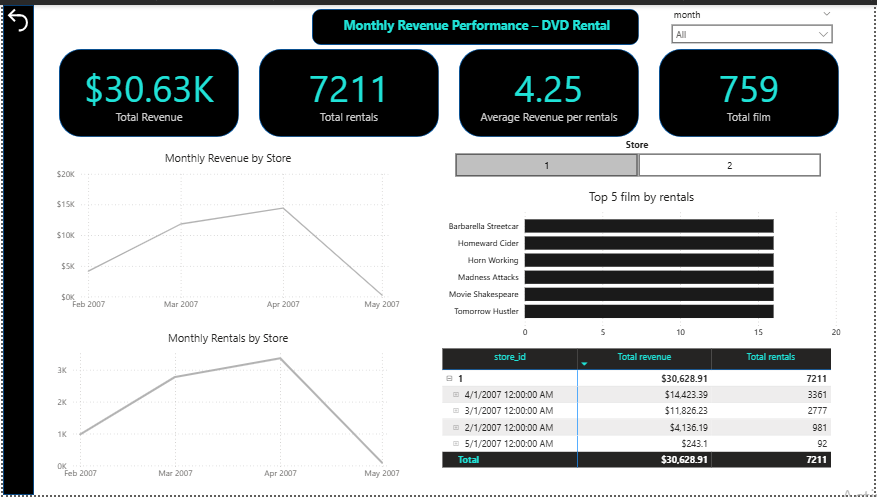

This screenshot's page, from the dashboard's own definition file:
{"tool":"powerbi","page":{"name":"Page 1","canvas":[1280,720],"ordinal":0},"visuals":[{"type":"shape","box":[454,5.9,480.5,52.9],"z":0},{"type":"shape","box":[82.3,64.7,264.5,129.3],"z":0,"group":"g4"},{"type":"group","id":"g1","title":"Group 1","box":[376.2,64.7,264.5,129.3],"z":0,"group":"g6"},{"type":"shape","box":[376.2,64.7,264.5,129.3],"z":0,"group":"g1"},{"type":"shape","box":[670.1,64.7,264.5,129.3],"z":0,"group":"g2"},{"type":"shape","box":[963.9,64.7,264.5,129.3],"z":0,"group":"g3"},{"type":"slicer","fields":{"Values":["Query2.store_id"]},"box":[638.7,211.5,586.3,47],"z":0,"group":"g5"},{"type":"card","fields":{"Values":["Sum(Query2.total_revenue)"]},"box":[91.1,64.7,246.9,129.3],"z":1000,"group":"g4"},{"type":"card","fields":{"Values":["Sum(Query2.total_rentals)"]},"box":[385,64.7,246.9,129.3],"z":1000,"group":"g1"},{"type":"group","id":"g2","title":"Group 1","box":[670.1,64.7,264.5,129.3],"z":1000,"group":"g6"},{"type":"card","fields":{"Values":["Query2.Average revenue per rwntals"]},"box":[678.9,64.7,246.9,129.3],"z":1000,"group":"g2"},{"type":"card","fields":{"Values":["Count(Query2.film)"]},"box":[972.7,64.7,246.9,129.3],"z":1000,"group":"g3"},{"type":"textbox","box":[796.3,191,270.4,35.3],"z":1000,"group":"g5"},{"type":"lineChart","title":"Monthly Rentals by Store","fields":{"Category":["Query2.month"],"Series":["Query2.store_id"],"Y":["Sum(Query2.total_rentals)"]},"box":[73.5,477.6,514.3,229.2],"z":1000},{"type":"shape","box":[0,0,45.6,720],"z":2000},{"type":"group","id":"g3","title":"Group 1","box":[963.9,64.7,264.5,129.3],"z":2000,"group":"g6"},{"type":"group","id":"g4","title":"Group 1","box":[82.3,64.7,264.5,129.3],"z":3000,"group":"g6"},{"type":"lineChart","title":"Monthly Revenue by Store","fields":{"Category":["Query2.month"],"Series":["Query2.store_id"],"Y":["Sum(Query2.total_revenue)"]},"box":[73.5,213.1,514.3,245.4],"z":3000},{"type":"group","id":"g5","title":"Group 2","box":[638.7,191,586.3,67.6],"z":4000},{"type":"slicer","fields":{"Values":["Query2.month"]},"box":[972.7,0,255.7,64.7],"z":5000},{"type":"group","id":"g6","title":"Group 3","box":[82.3,64.7,1146.1,129.3],"z":6000},{"type":"pivotTable","fields":{"Rows":["Query2.store_id","Query2.month","Query2.film"],"Values":["Sum(Query2.total_revenue)","Sum(Query2.total_rentals)"]},"box":[640.7,499.6,595.1,220.4],"z":7000},{"type":"barChart","title":"Top 5 film by rentals","fields":{"Category":["Query2.film"],"Y":["Sum(Query2.total_rentals)"]},"box":[640.7,268.9,595.1,230.7],"z":8000},{"type":"textbox","box":[495.2,11.8,430.5,52.9],"z":9000},{"type":"actionButton","box":[0,0,73.5,44.1],"z":10000}]}

Visuals, with their boxes in screenshot pixels (x1, y1, x2, y2):
shape: [307, 9, 631, 44]
shape: [56, 48, 234, 136]
"Group 1" group: [254, 48, 433, 136]
shape: [254, 48, 433, 136]
shape: [453, 48, 631, 136]
shape: [651, 48, 830, 136]
slicer - Query2.store_id: [432, 147, 828, 179]
card - Sum(Query2.total_revenue): [62, 48, 228, 136]
card - Sum(Query2.total_rentals): [260, 48, 427, 136]
"Group 1" group: [453, 48, 631, 136]
card - Query2.Average revenue per rwntals: [459, 48, 626, 136]
card - Count(Query2.film): [657, 48, 824, 136]
textbox: [538, 134, 721, 157]
"Monthly Rentals by Store" lineChart: [50, 327, 397, 482]
shape: [0, 5, 31, 491]
"Group 1" group: [651, 48, 830, 136]
"Group 1" group: [56, 48, 234, 136]
"Monthly Revenue by Store" lineChart: [50, 149, 397, 314]
"Group 2" group: [432, 134, 828, 179]
slicer - Query2.month: [657, 5, 830, 48]
"Group 3" group: [56, 48, 830, 136]
pivotTable - Query2.store_id x Query2.month: [433, 342, 835, 491]
"Top 5 film by rentals" barChart: [433, 186, 835, 342]
textbox: [335, 13, 625, 48]
actionButton: [0, 5, 50, 34]
